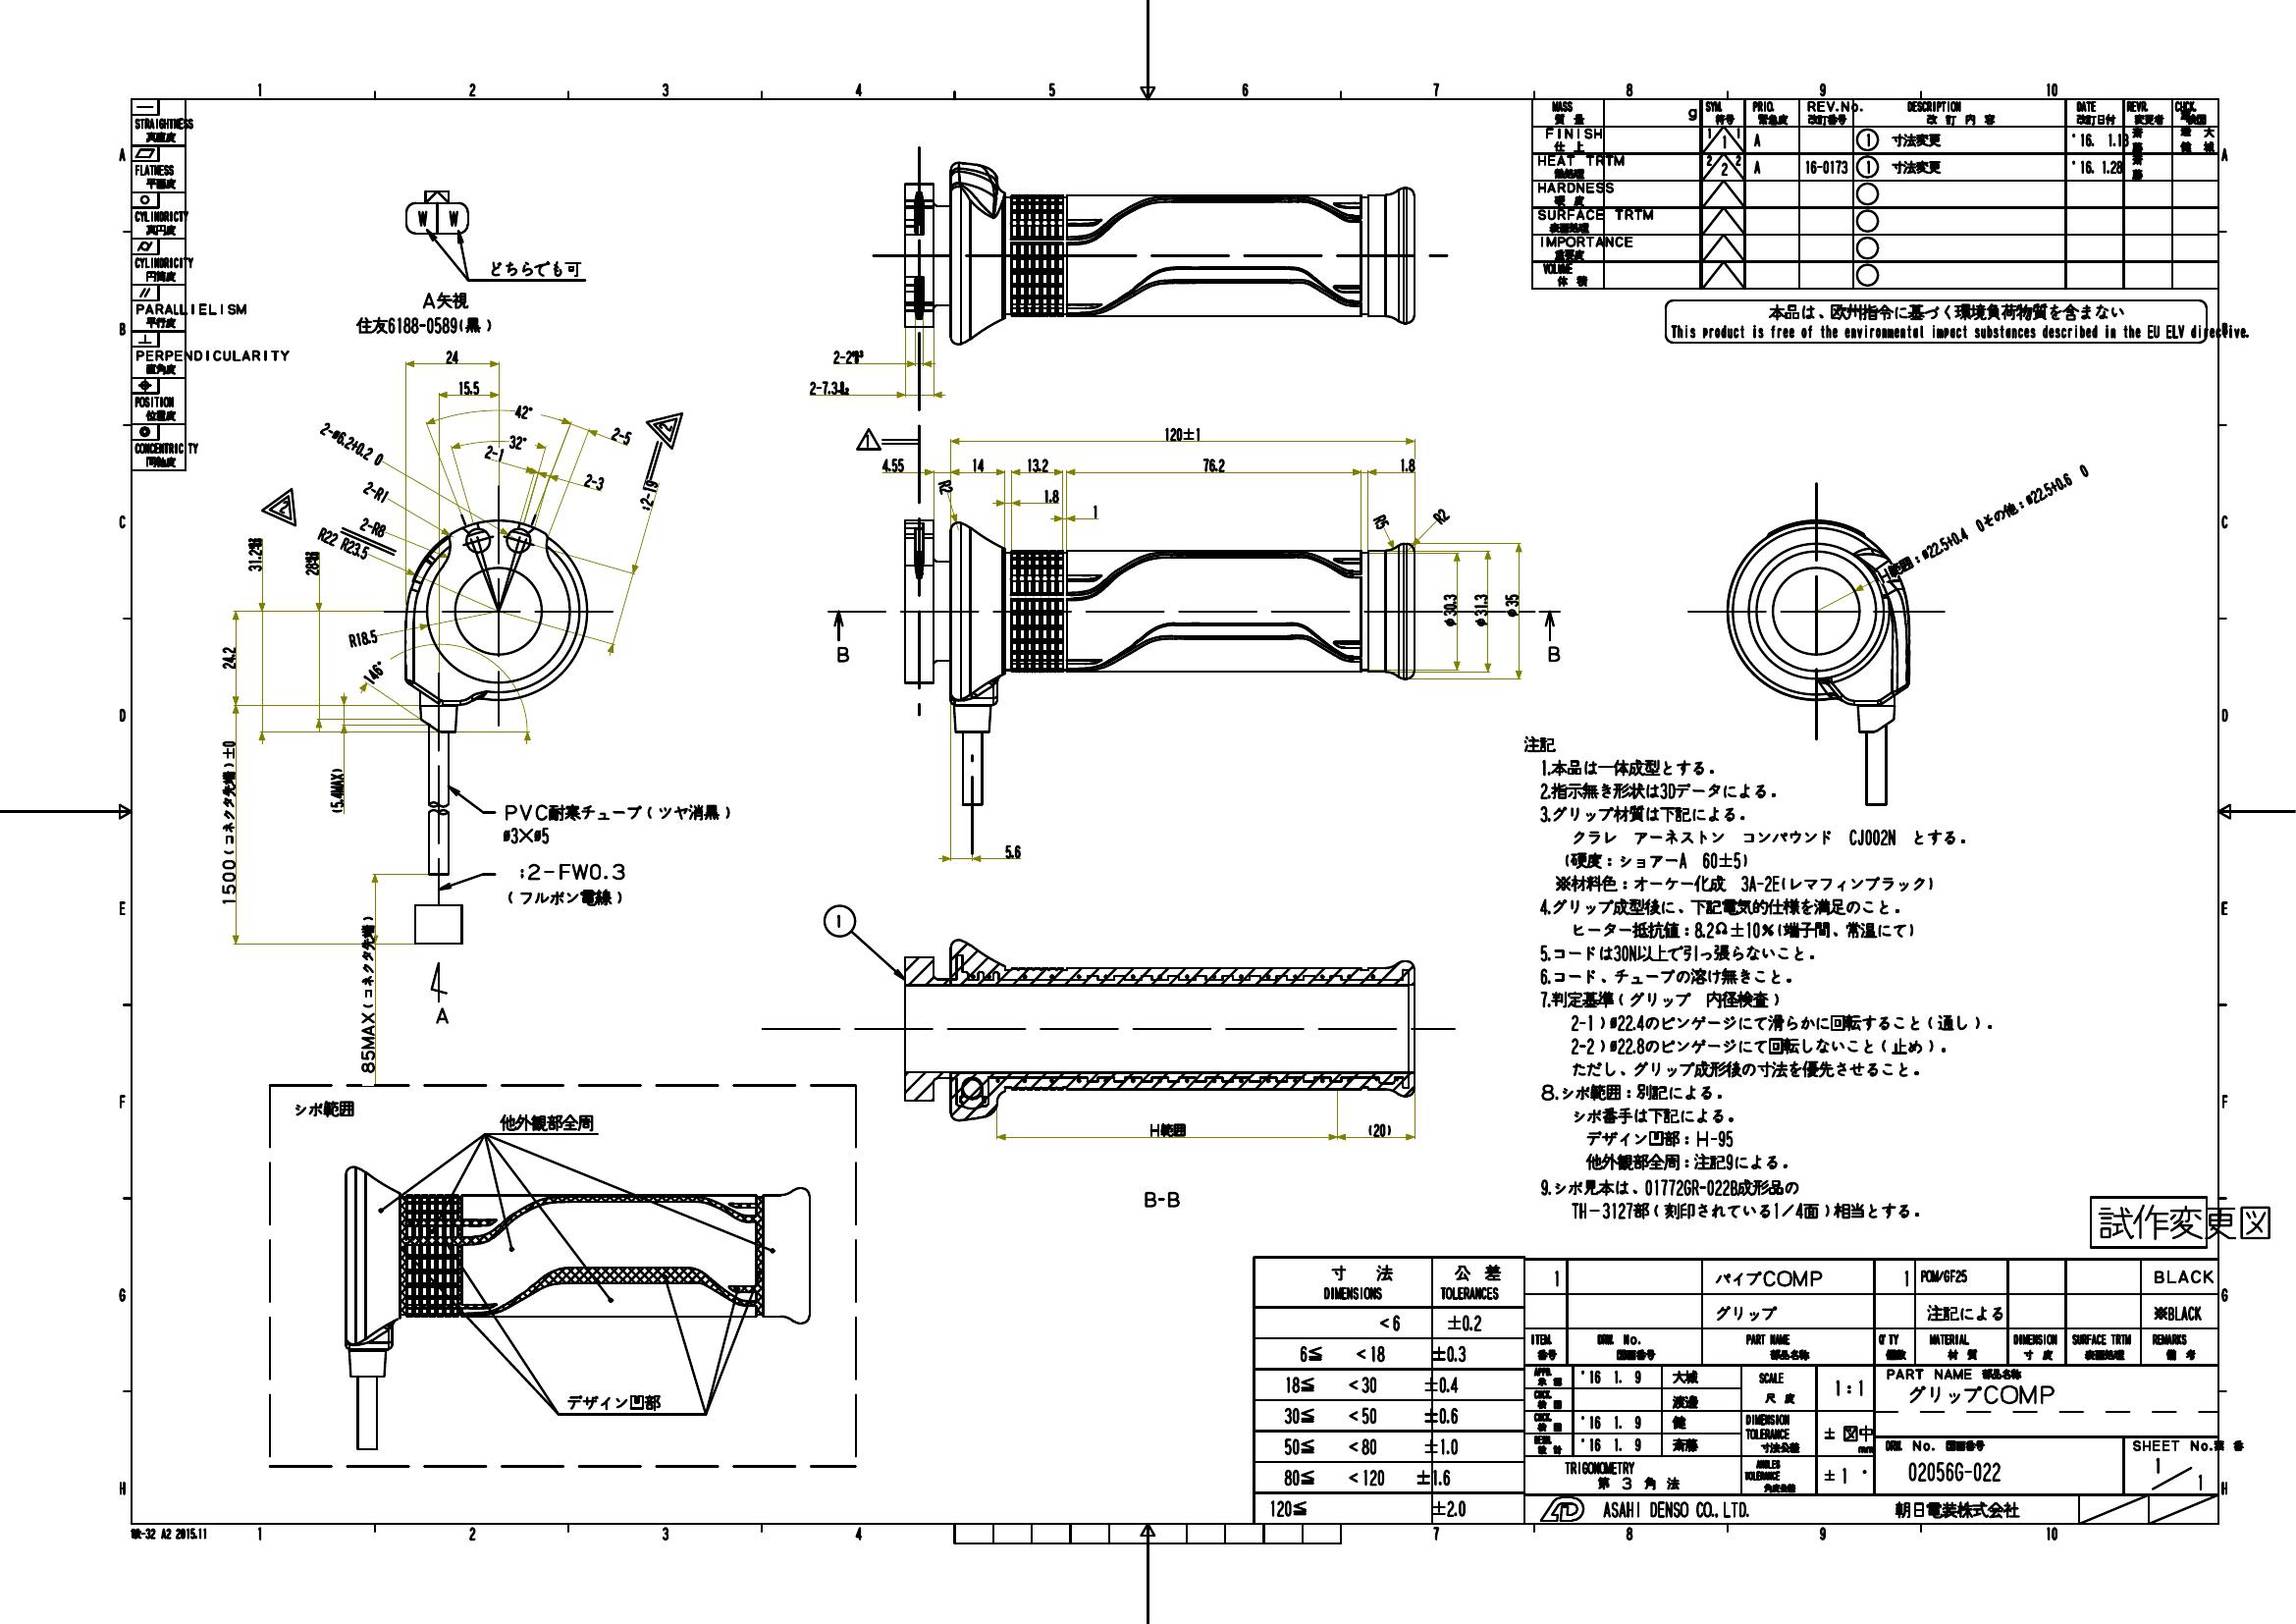anntotation_text: (1521, 729, 1999, 1225), (1664, 299, 2208, 344), (355, 288, 494, 336), (2090, 1195, 2208, 1250), (502, 801, 736, 823), (504, 884, 624, 909), (488, 257, 583, 279), (497, 1114, 596, 1132), (564, 1394, 662, 1411), (641, 408, 682, 445), (221, 761, 237, 854), (265, 487, 306, 522), (360, 916, 374, 1009), (293, 1098, 358, 1118), (128, 1526, 207, 1541), (822, 905, 856, 935), (1142, 1186, 1180, 1207), (1982, 504, 2025, 520), (1147, 1121, 1189, 1137), (1876, 559, 1922, 573), (856, 429, 880, 452), (432, 1004, 453, 1023), (1544, 642, 1562, 664), (834, 643, 850, 664)
dimension_text: (516, 863, 625, 881), (360, 1011, 376, 1074), (2022, 478, 2092, 492), (502, 824, 550, 844), (314, 438, 388, 450), (316, 536, 371, 550), (1918, 536, 1969, 550), (221, 858, 235, 905), (330, 766, 344, 814), (808, 380, 850, 395), (246, 538, 262, 573), (1163, 425, 1202, 439), (1442, 592, 1456, 629), (1474, 592, 1488, 629), (833, 348, 864, 364), (457, 378, 481, 395), (348, 631, 378, 645), (641, 480, 655, 510), (358, 520, 386, 534), (304, 550, 320, 575), (1504, 592, 1518, 619), (882, 457, 905, 473), (1026, 457, 1049, 473), (362, 666, 386, 680), (1200, 457, 1224, 471), (581, 475, 604, 489), (221, 647, 235, 670), (508, 434, 527, 450), (1367, 1123, 1391, 1135), (610, 429, 634, 441), (364, 485, 388, 497), (1398, 457, 1416, 473), (221, 740, 235, 759), (483, 446, 504, 459), (444, 348, 460, 364), (970, 457, 986, 473), (1042, 489, 1059, 503), (1005, 844, 1022, 858), (938, 480, 954, 494), (515, 406, 532, 418), (1433, 508, 1448, 522), (1374, 515, 1388, 529), (1089, 504, 1100, 518)
object: (903, 518, 1414, 807), (346, 1165, 808, 1448), (905, 160, 1414, 346), (905, 939, 1414, 1120), (404, 520, 588, 944), (1725, 517, 1911, 805), (404, 192, 471, 234)
title_block: (1251, 1257, 2219, 1522), (1532, 100, 2219, 290), (130, 97, 186, 471)
